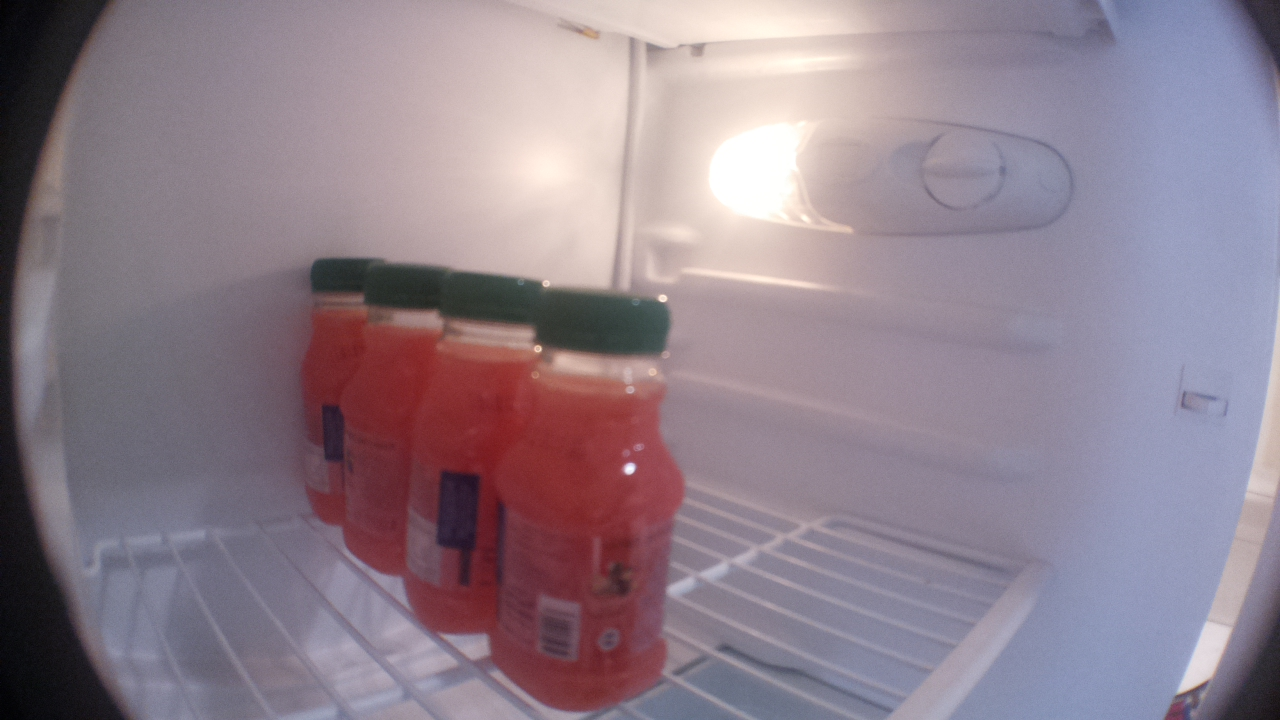juice: (487, 278, 686, 714), (401, 262, 497, 636), (338, 254, 407, 588), (291, 244, 359, 546)
